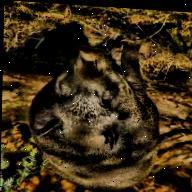boar: (39, 38, 162, 192)
